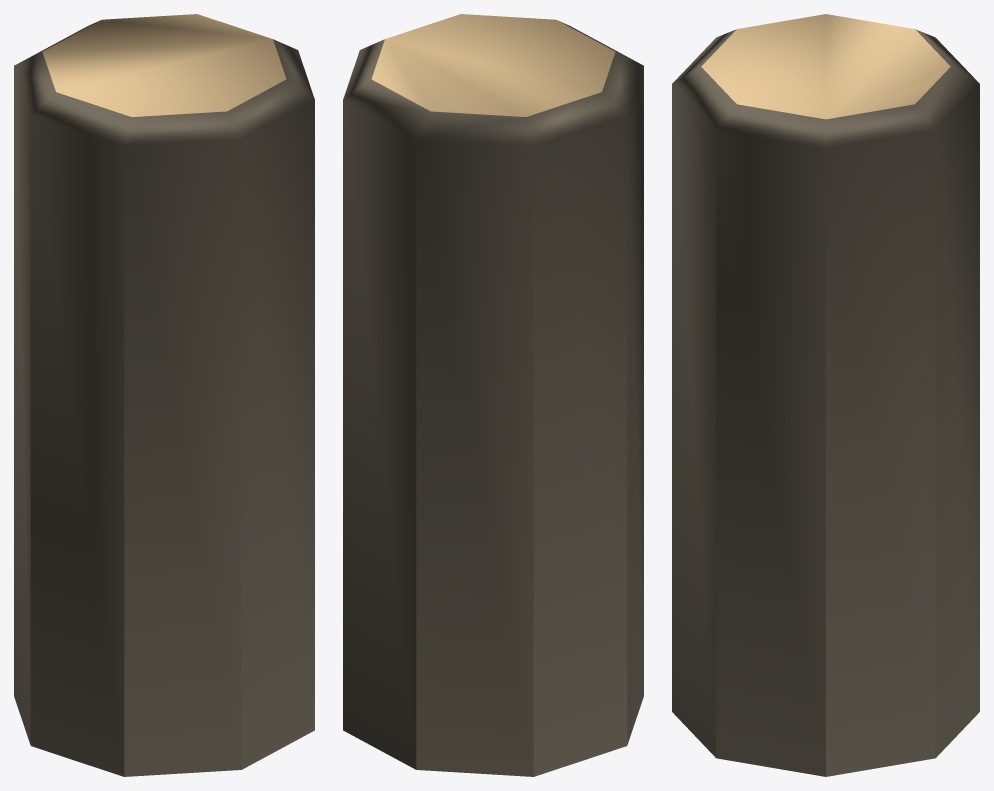
The model's file is Stump Cay Xoan.fbx.
3 views of the same model, side by side, from view 1: azimuth 30°, elevation 25°; view 2: azimuth 150°, elevation 25°; view 3: azimuth 270°, elevation 25° (orthographic).
Parts seen in each view (by area): view 1: Trunk; view 2: Trunk; view 3: Trunk.
Part boxes in pixels (left/top/right/bottom): Trunk: left=14, top=14, right=314, bottom=776; Trunk: left=343, top=14, right=643, bottom=776; Trunk: left=672, top=14, right=979, bottom=776.
Bounding box in the file's own units: 231 × 568 × 231.
